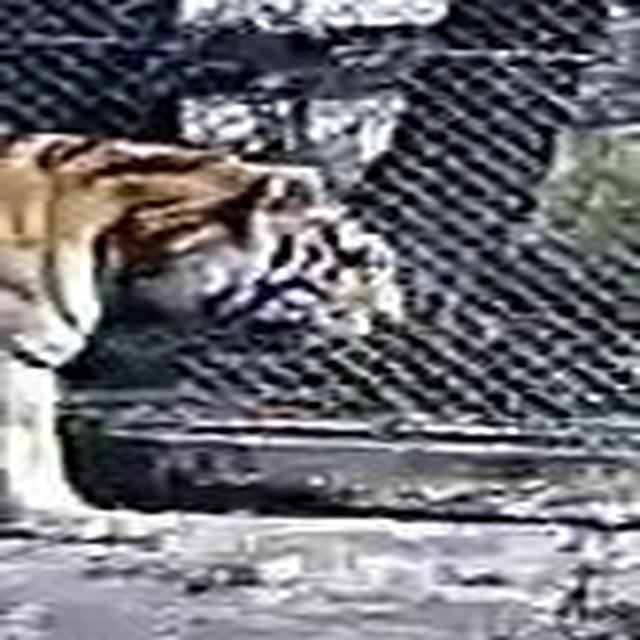tiger: (0, 87, 409, 369)
